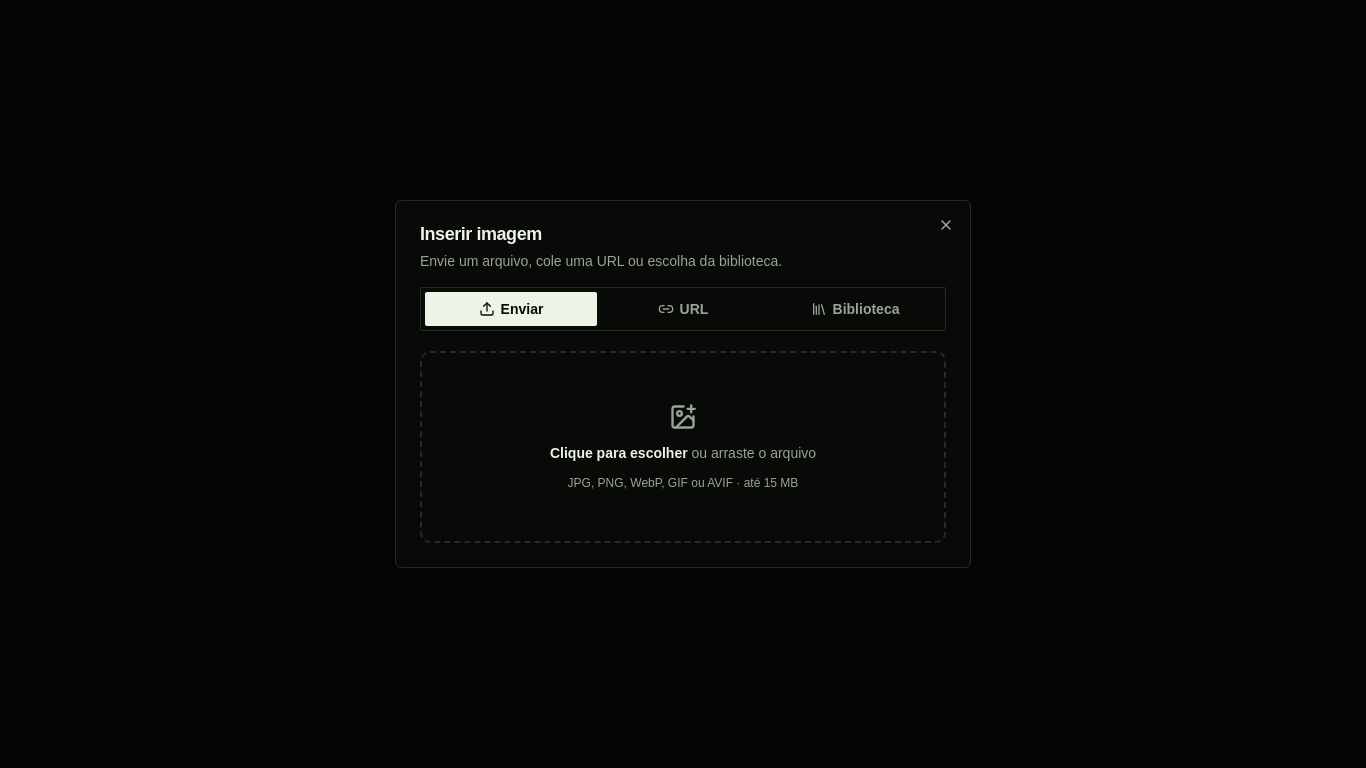
Test: <MediaDialog /> — imagem › "Trocar" volta para a escolha do arquivo
The width and height of the screenshot is (1366, 768).
Press the mouse on the tab "URL" at (683, 309), box [597,292,769,326]
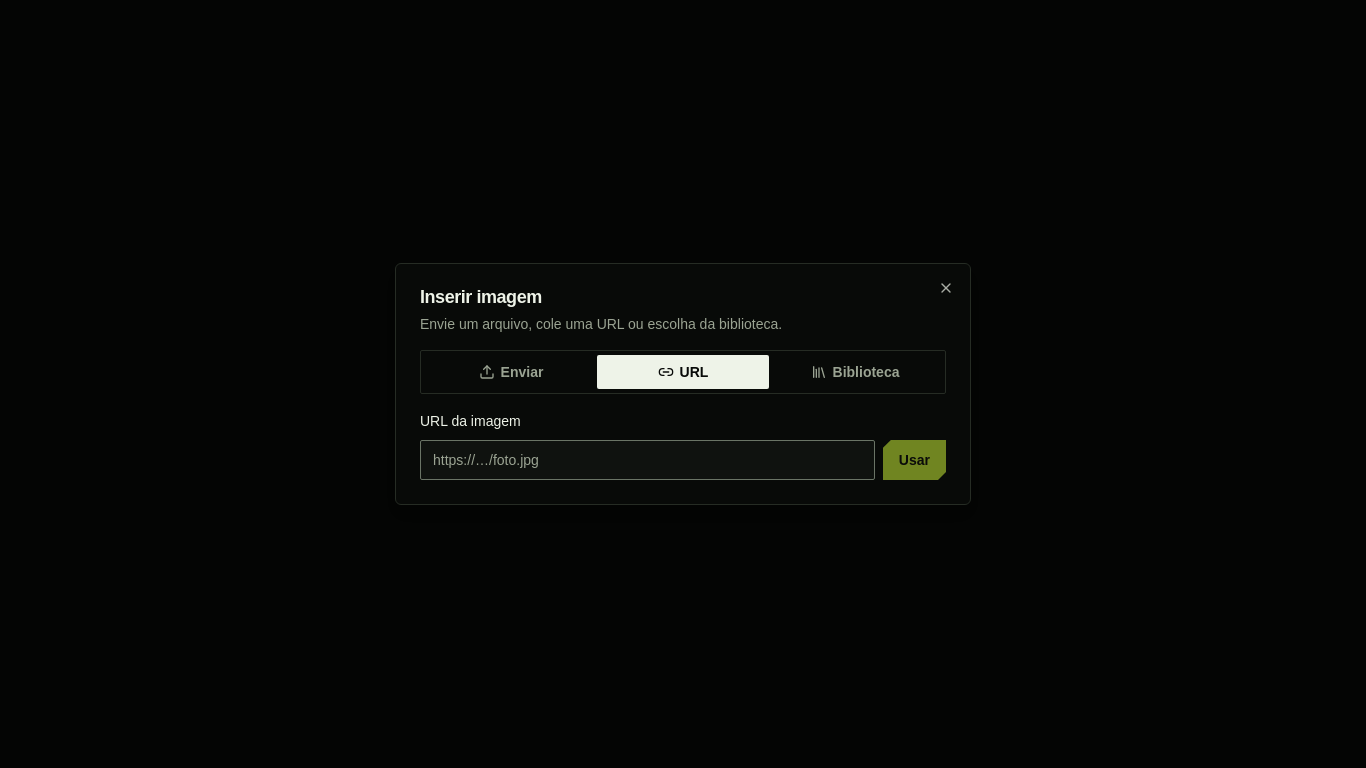
Type "https://exemplo.com/a.png" into the field labelled "URL da imagem" at (647, 460), box [420,440,875,480]
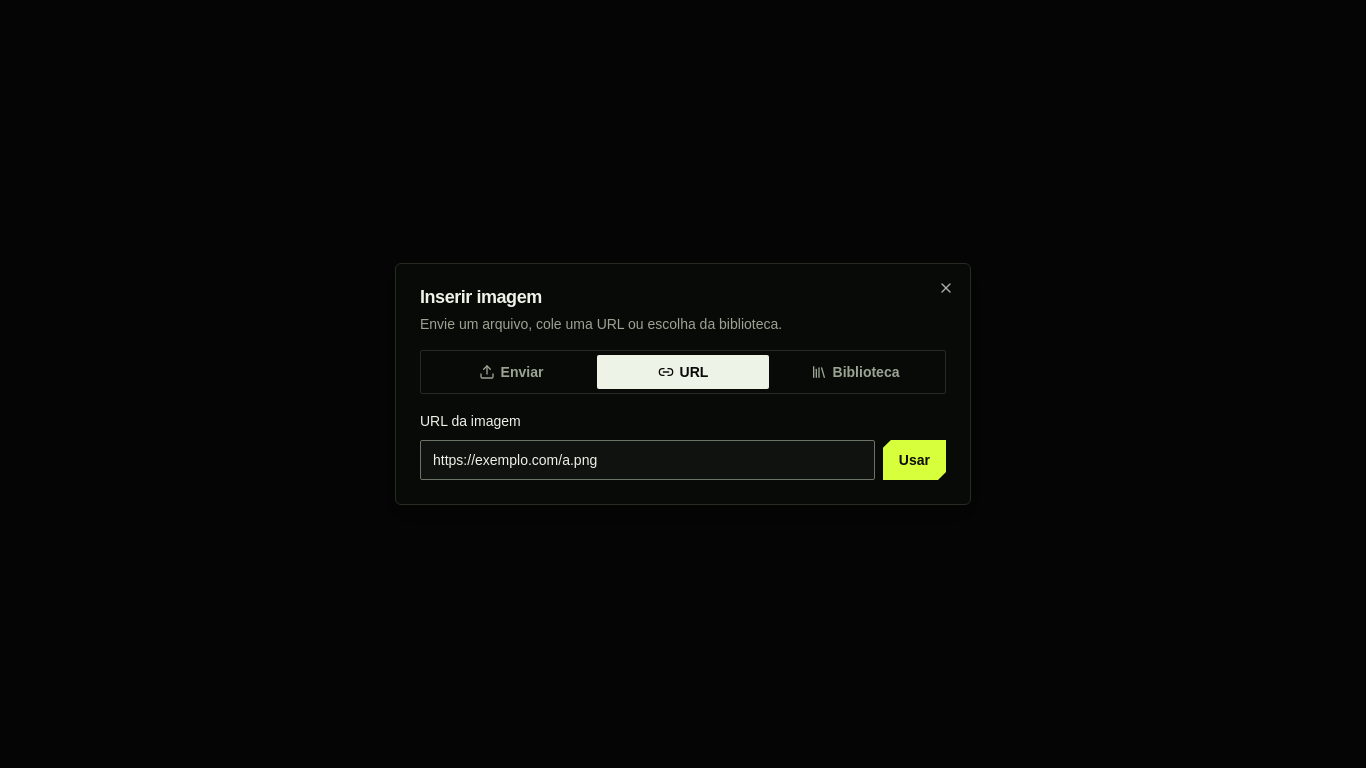
Click the button "Usar" at (914, 460), box [883,440,946,480]
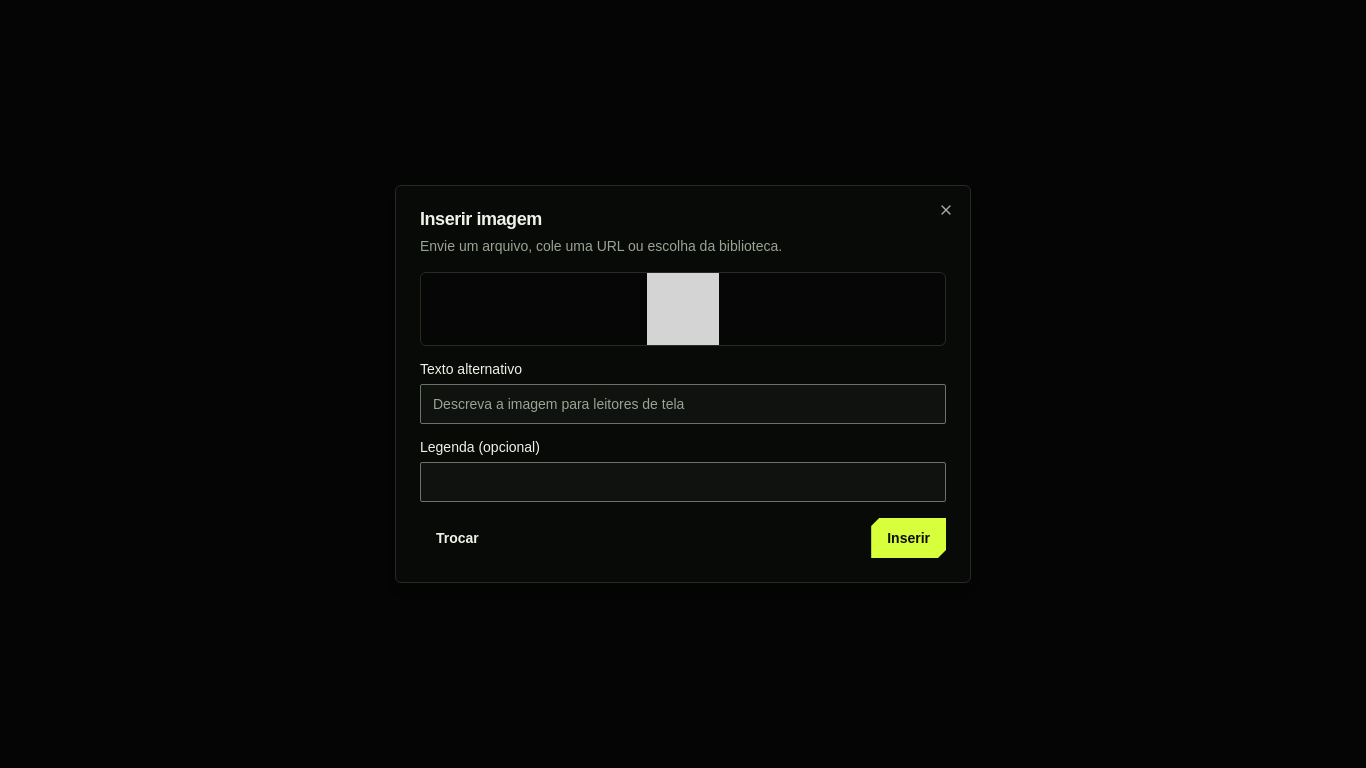
Click the button "Trocar" at (457, 538), box [420,518,495,558]
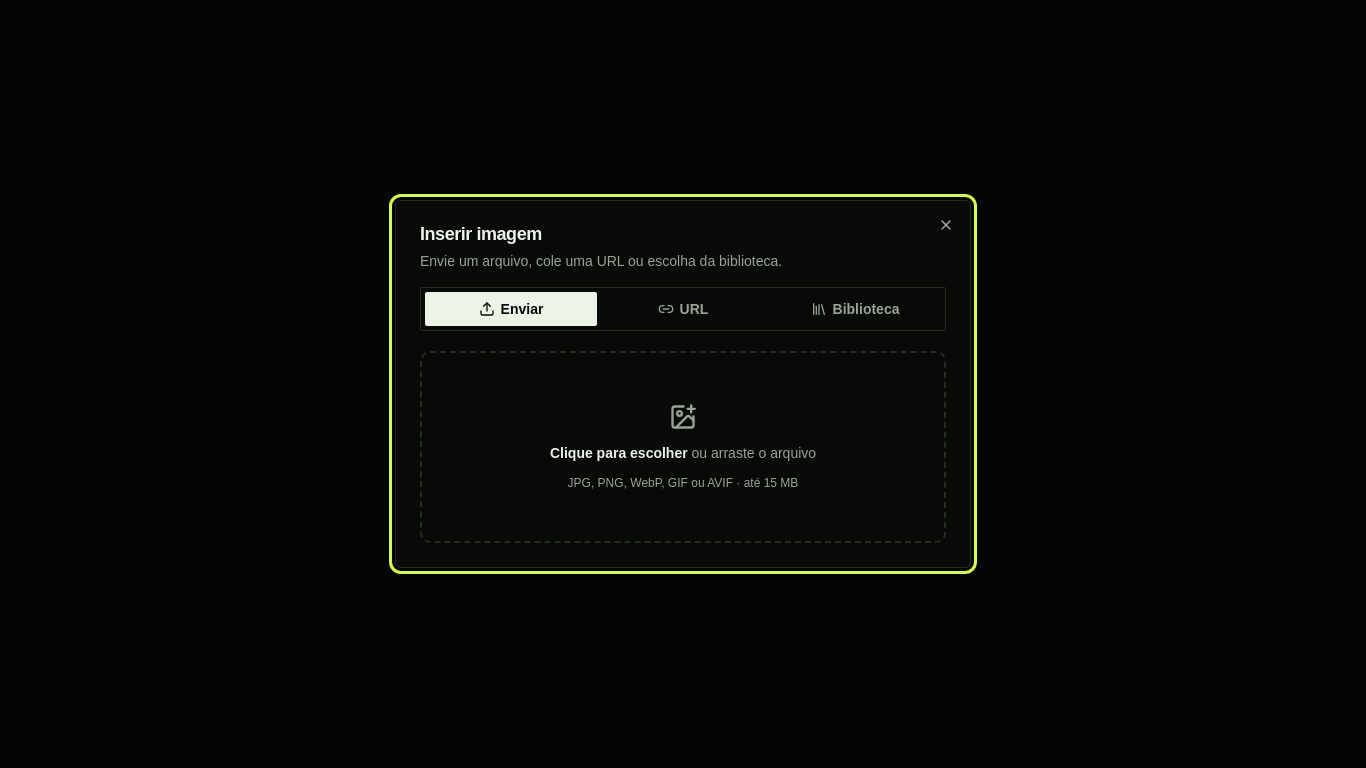
Expected: the tab "URL" is shown, [597,292,769,326]
